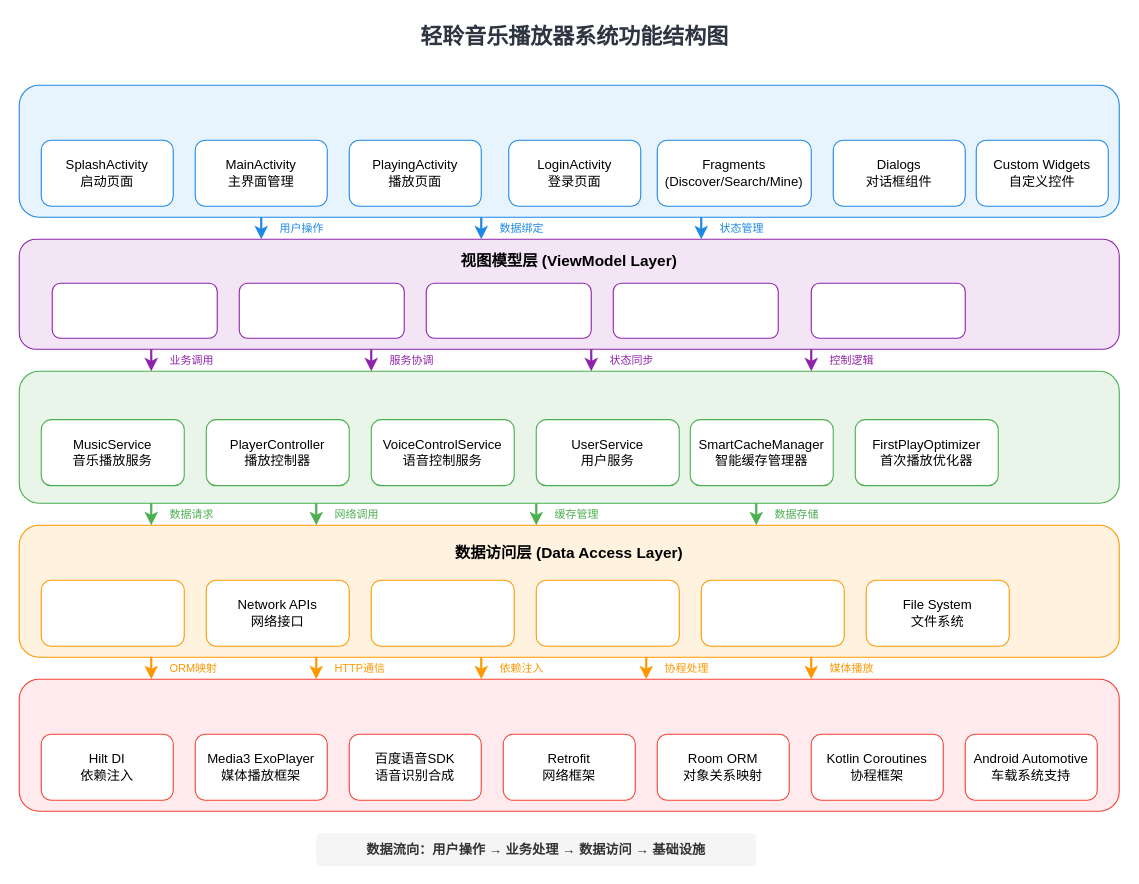
This 1139x884 diagram has some shape labels left out. Each missing label, with the box of its shape:
Cache Storage 缓存存储: (535, 579, 679, 646)
DiscoverViewModel 发现页面视图模型: (238, 282, 404, 338)
MineViewModel 个人中心视图模型: (612, 282, 778, 338)
PlayingViewModel 播放页面视图模型: (810, 282, 965, 338)
Repositories 数据仓库: (370, 579, 514, 646)
Room Database 本地数据库: (40, 579, 184, 646)
SearchViewModel 搜索页面视图模型: (425, 282, 591, 338)
SharedPreferences 配置存储: (700, 579, 844, 646)
VoiceControlViewModel 语音控制视图模型: (51, 282, 217, 338)
业务层 (Business Layer): (18, 370, 1119, 503)
基础设施层 (Infrastructure Layer): (18, 678, 1119, 811)
表示层 (Presentation Layer): (18, 84, 1119, 217)
